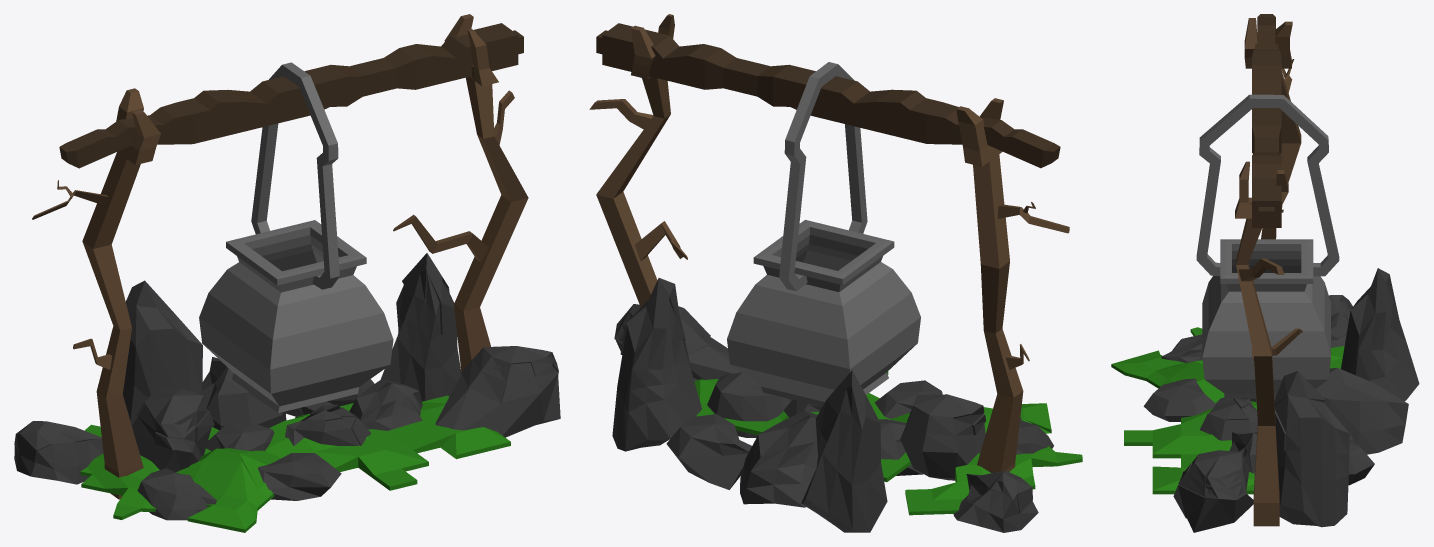
File: кастрюля (1).fbx
The picture shows the model from 3 angles, left to right: view 1: azimuth 30°, elevation 25°; view 2: azimuth 150°, elevation 25°; view 3: azimuth 270°, elevation 25°; orthographic projection. The views are drawn at different scales.
Parts seen in each view (by area): view 1: Cube_3, Cube, Cube_1, Cube_2, Sphere_1, Plane, Plane_1, Sphere_7, Sphere_5, cube_4, Sphere, Sphere_4 (+7 smaller); view 2: Cube_3, Cube, Cube_1, Sphere_7, Sphere_5, Cube_2, cube_4, Sphere_2, Sphere, Plane_1, Sphere_11, Sphere_4 (+6 smaller); view 3: Cube_3, Sphere_7, Cube_2, Sphere_5, Cube, cube_4, Sphere_1, Sphere_2, Plane, Plane_1, Cube_1, Sphere_6 (+5 smaller).
Part boxes in pixels (x1,y1,x2,y2): Cube_3: (199,220,393,413); Cube: (59,23,523,168); Cube_1: (32,88,160,499); Cube_2: (393,14,528,371); Sphere_1: (435,346,560,437); Plane: (204,395,510,490); Plane_1: (80,424,280,532); Sphere_7: (380,253,461,401); Sphere_5: (122,280,202,425); cube_4: (251,62,339,289); Sphere: (132,388,214,472); Sphere_4: (14,421,103,484); Cube_3: (727,219,920,406); Cube: (596,23,1060,168); Cube_1: (956,98,1069,472); Sphere_7: (612,278,701,451); Sphere_5: (801,370,887,532); Cube_2: (589,14,687,308); cube_4: (779,62,867,291); Sphere_2: (740,410,817,507); Sphere: (900,394,985,480); Plane_1: (890,403,1082,515); Sphere_11: (666,414,751,489); Sphere_4: (953,470,1038,532); Cube_3: (1202,239,1330,398); Sphere_7: (1274,371,1349,527); Cube_2: (1235,161,1302,526); Sphere_5: (1341,268,1419,401); Cube: (1252,14,1281,227); cube_4: (1196,94,1339,276); Sphere_1: (1173,450,1253,532); Sphere_2: (1315,367,1408,454); Plane: (1124,401,1256,494); Plane_1: (1111,327,1344,403); Cube_1: (1244,18,1301,239); Sphere_6: (1143,378,1215,421).
Bounding box in the file's own units: 224 × 177 × 135.
